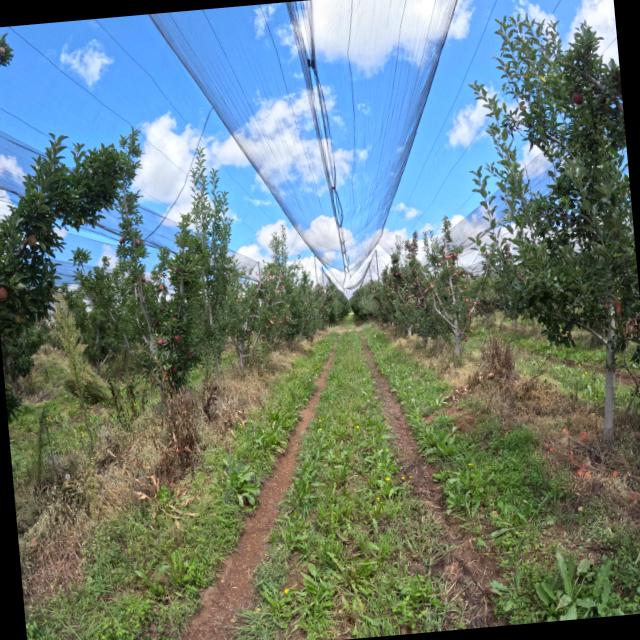-FireBlight-: (622, 312, 640, 342), (614, 297, 622, 316)
